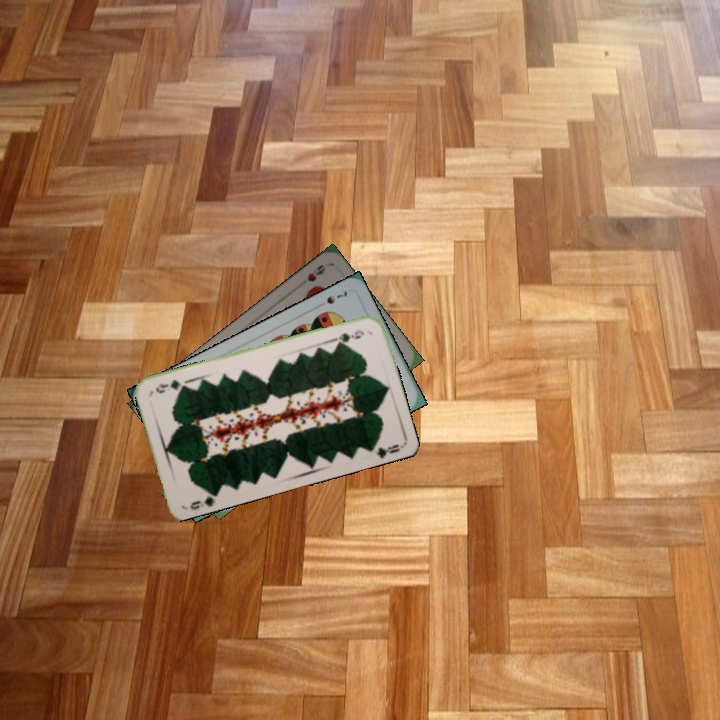G9: (186, 488, 220, 512), (332, 325, 367, 347)
H9: (303, 260, 329, 284)
S7: (322, 287, 350, 307)
